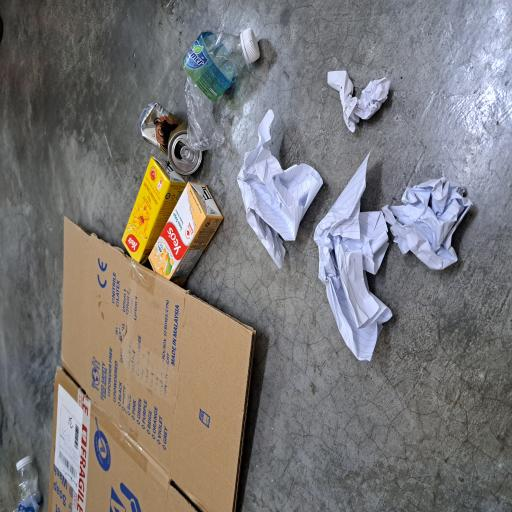can: (255, 179, 307, 274)
cardboard: (0, 67, 223, 343)
drink carton: (172, 196, 245, 296), (191, 162, 266, 244)
paper: (113, 415, 270, 512), (181, 316, 303, 430), (284, 431, 335, 512)
plastic bottle: (272, 238, 364, 349), (0, 17, 44, 61)
plastic bottle cap: (335, 318, 366, 346), (29, 18, 43, 49)
pop tab: (260, 238, 278, 268)
